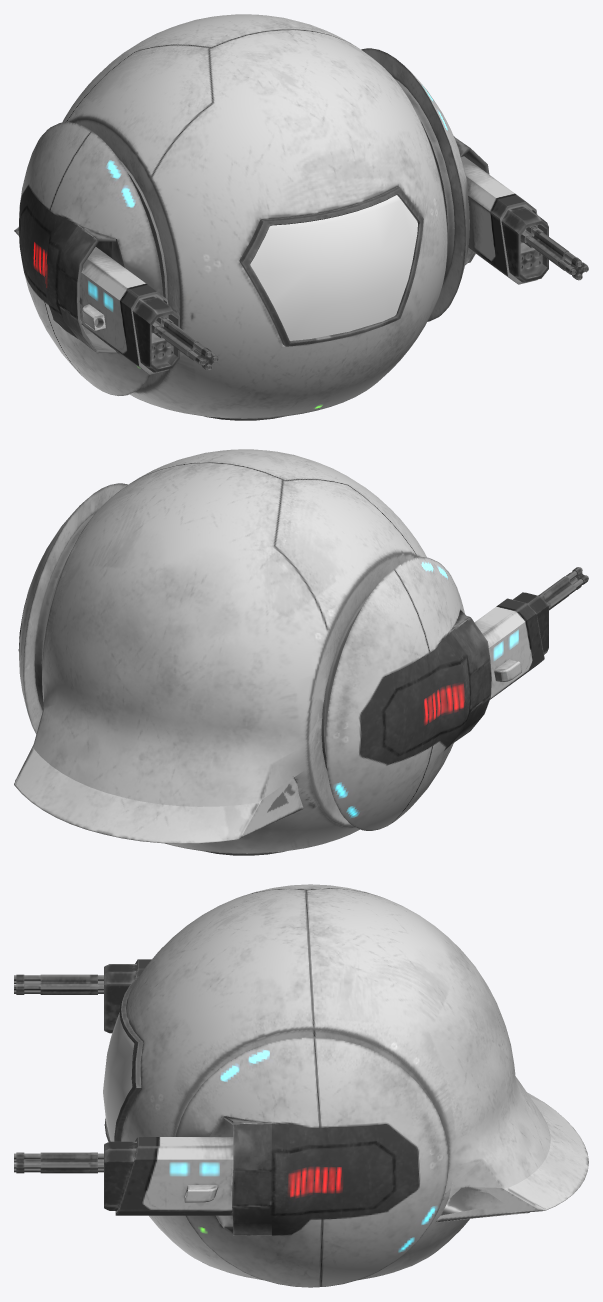
Rendered from automaton_drone.glb.
The picture shows the model from 3 angles, top to bottom: view 1: azimuth 30°, elevation 25°; view 2: azimuth 150°, elevation 25°; view 3: azimuth 270°, elevation 25°; orthographic projection.
Visible parts, largest first — view 1: glass; view 2: glass; view 3: glass.
Part boxes in pixels (left/top/right/bottom): glass: left=14, top=14, right=588, bottom=420; glass: left=14, top=449, right=588, bottom=855; glass: left=14, top=884, right=588, bottom=1287.
Size of the model in its own units: 1.93 by 1.52 by 2.28.
Materials: 2 (1 with a texture image).
